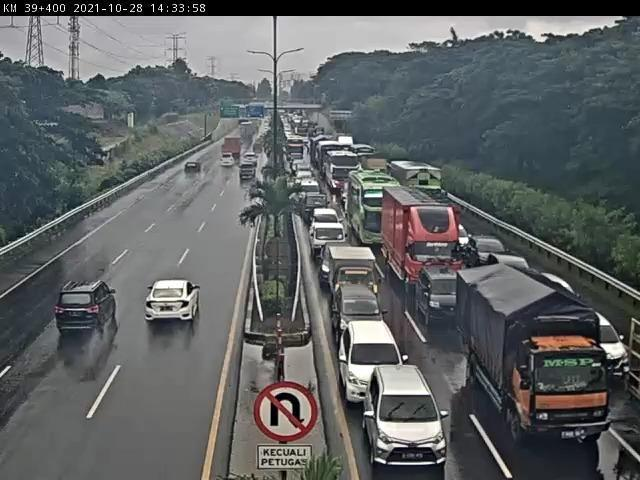bus: (348, 171, 400, 247), (322, 151, 362, 193)
car: (359, 367, 448, 467), (334, 322, 410, 404), (567, 304, 631, 380), (416, 262, 472, 328), (52, 281, 118, 337), (322, 246, 384, 304), (327, 286, 389, 342), (142, 276, 200, 324), (310, 222, 350, 264), (466, 235, 508, 270), (486, 253, 530, 281), (298, 194, 330, 224), (446, 220, 469, 252), (312, 208, 340, 226), (296, 178, 320, 198), (294, 166, 312, 182)
truck: (458, 270, 610, 446), (380, 185, 460, 295)
